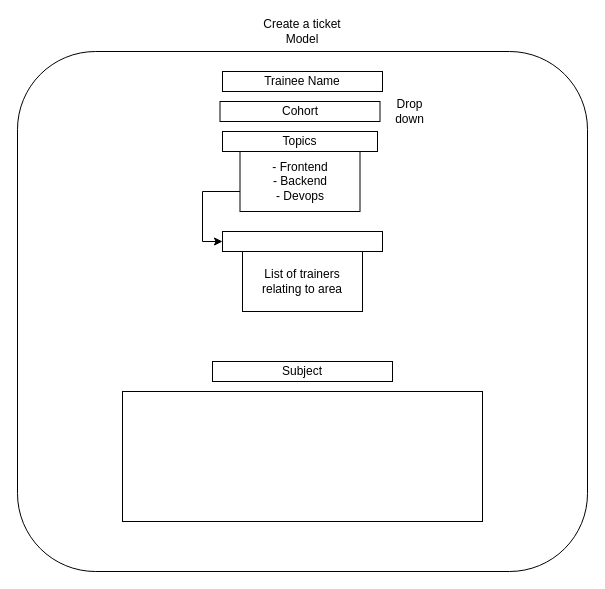
This 605x589 diagram has some shape labels left out. Here are the shapes that lost their labels. From the top down, the box of each, then its label:
(222, 230, 382, 252): Trainer
(122, 390, 482, 522): Description
